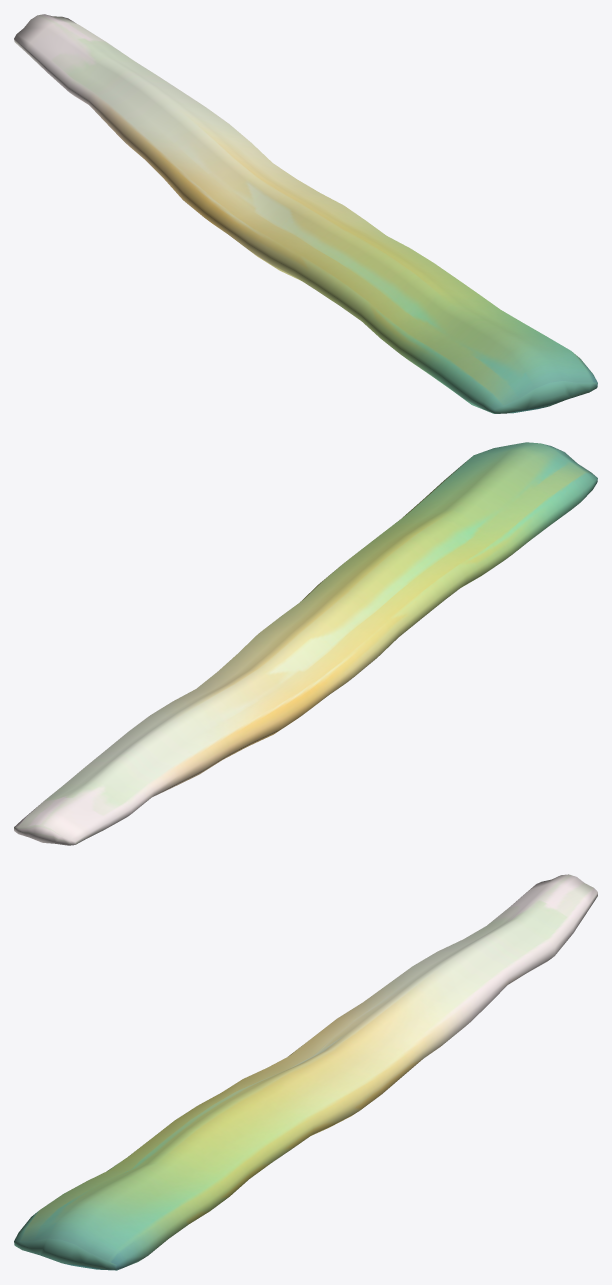
Rendered from Tongue_New.fbx.
The picture shows the model from 3 angles, top to bottom: view 1: azimuth 30°, elevation 25°; view 2: azimuth 150°, elevation 25°; view 3: azimuth 330°, elevation 25°; orthographic projection.
Parts seen in each view (by area): view 1: Tongue_New; view 2: Tongue_New; view 3: Tongue_New.
Part boxes in pixels (x1,y1,x2,y2): Tongue_New: [14, 14, 597, 413]; Tongue_New: [14, 442, 597, 845]; Tongue_New: [14, 874, 597, 1270].
Bounding box in the file's own units: 1060 × 580 × 8054.
